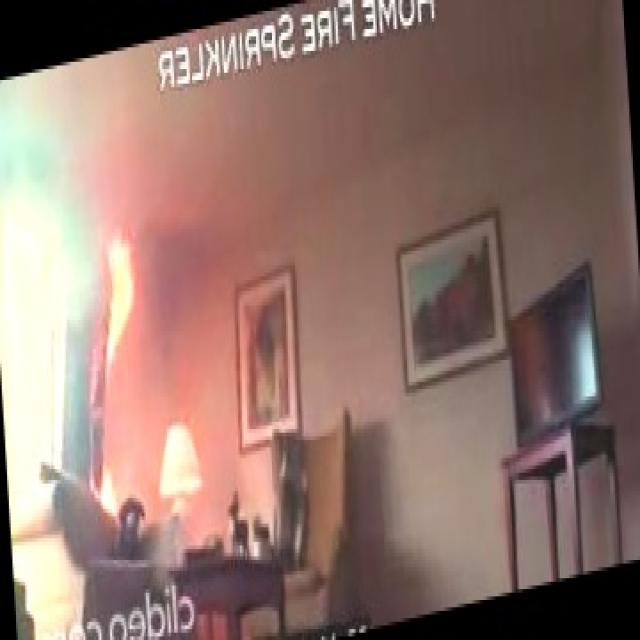fire: (84, 171, 174, 400)
